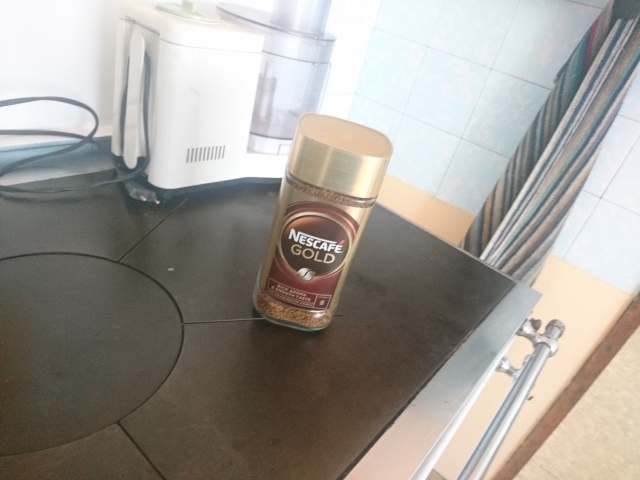Nescafe Gold 225g: (247, 109, 396, 334)
